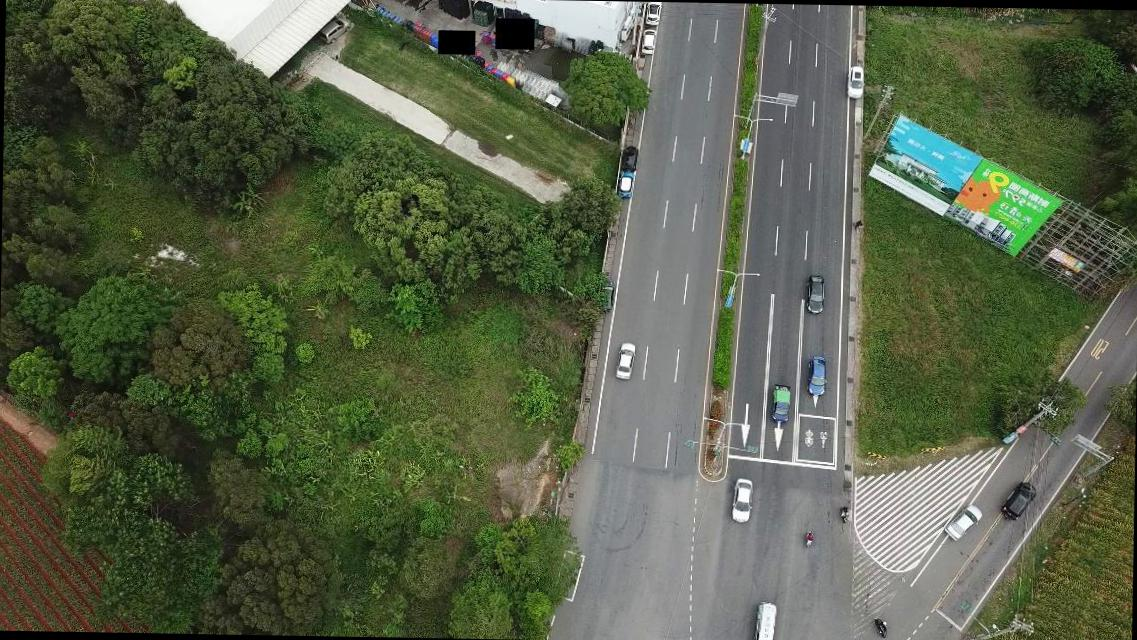vehicle: (945, 504, 985, 540), (1002, 480, 1036, 520), (730, 475, 754, 524), (806, 353, 830, 398), (769, 381, 794, 424), (755, 597, 780, 639), (841, 62, 866, 101), (320, 16, 351, 44), (806, 270, 824, 316), (612, 343, 635, 379), (638, 24, 658, 58), (596, 276, 613, 314), (642, 2, 662, 28), (617, 170, 634, 200), (620, 143, 637, 170)
